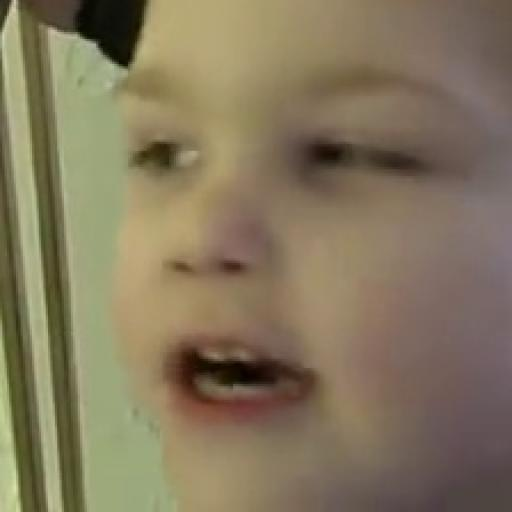Autism: (94, 0, 512, 512)
